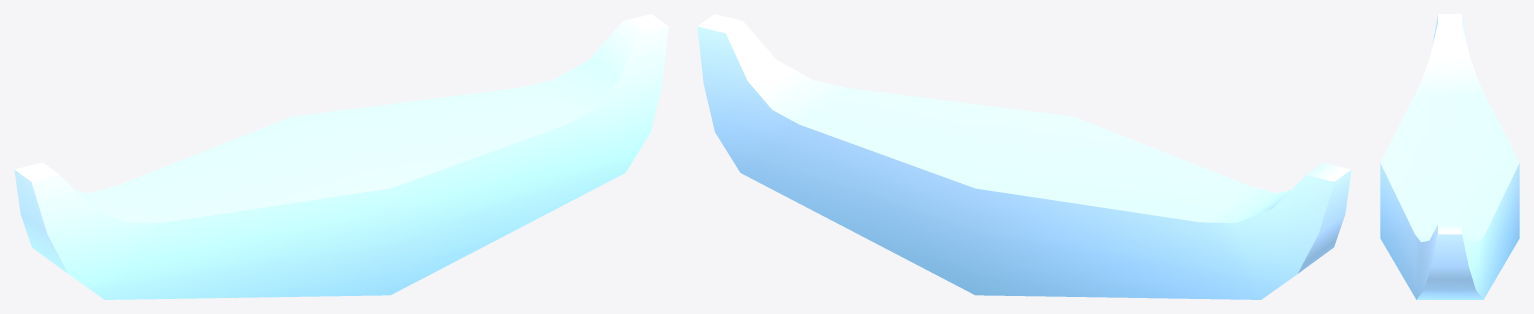
The model's file is steel_guard_054.glb.
3 views of the same model, side by side, from view 1: azimuth 30°, elevation 25°; view 2: azimuth 150°, elevation 25°; view 3: azimuth 270°, elevation 25° (orthographic). The views are drawn at different scales.
Parts seen in each view (by area): view 1: steel_guard_054; view 2: steel_guard_054; view 3: steel_guard_054.
Part boxes in pixels (x1,y1,x2,y2): steel_guard_054: (14, 14, 668, 299); steel_guard_054: (697, 14, 1351, 299); steel_guard_054: (1380, 14, 1519, 299).
Size of the model in its own units: 7.36 by 1.78 by 1.97.
Materials: 1 (1 with a texture image).
